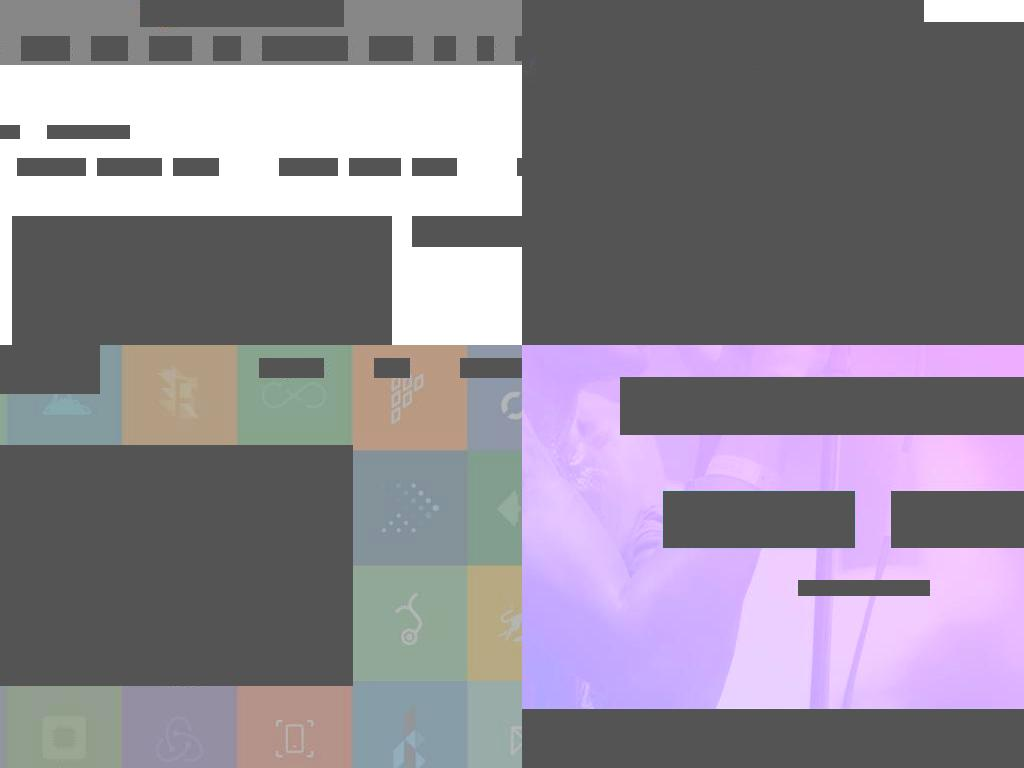button: (522, 93, 1024, 345), (663, 491, 855, 548), (891, 491, 1024, 548), (0, 345, 100, 394), (624, 41, 722, 66), (262, 36, 348, 61), (540, 41, 625, 66), (721, 41, 804, 66), (803, 41, 884, 66), (21, 36, 70, 61), (47, 125, 130, 139), (369, 36, 413, 61), (149, 36, 192, 61), (91, 36, 128, 61), (213, 36, 241, 61), (434, 36, 456, 61), (477, 36, 494, 61), (0, 125, 20, 139), (515, 36, 522, 61)
heading: (0, 89, 522, 345), (0, 445, 353, 686), (620, 377, 1024, 435), (522, 273, 780, 310), (140, 0, 344, 27), (522, 329, 780, 345), (522, 0, 732, 13)
image: (12, 216, 392, 345), (522, 709, 1024, 768), (522, 0, 924, 47), (0, 345, 48, 394), (477, 41, 494, 53), (515, 41, 522, 53)
link: (798, 580, 930, 596), (259, 358, 324, 378), (17, 158, 86, 176), (460, 358, 522, 378), (279, 158, 338, 176), (374, 358, 410, 378)
text: (594, 709, 1024, 768), (522, 12, 892, 32), (522, 709, 591, 768), (412, 216, 522, 247), (659, 760, 1024, 768), (631, 41, 701, 66), (547, 41, 604, 66), (728, 41, 783, 66), (810, 41, 863, 66), (97, 158, 162, 176), (47, 125, 130, 139), (349, 158, 401, 176), (173, 158, 219, 176), (412, 158, 457, 176), (0, 125, 20, 139)
